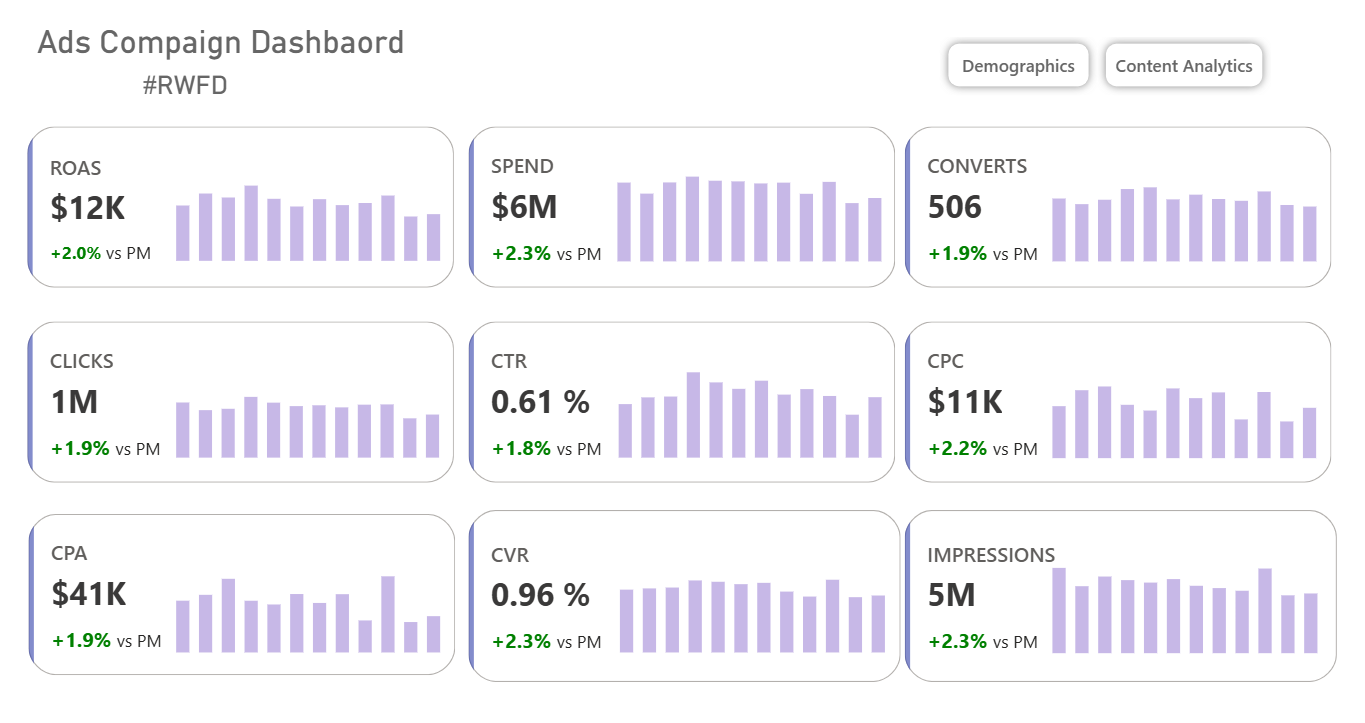

The dashboard page shown, as its layout file describes it:
{"tool":"powerbi","page":{"name":"KPI","canvas":[1280,720],"ordinal":0},"visuals":[{"type":"cardVisual","fields":{"Data":["Sum(Sheet1.Spend)"]},"box":[444,122,402,160],"z":0},{"type":"cardVisual","fields":{"Data":["Sum(Sheet1.Clicks)"]},"box":[34,304,402,160],"z":1000},{"type":"cardVisual","fields":{"Data":["Avg(Sheet1.Conversions)"]},"box":[850.1,122.5,402,160],"z":2000},{"type":"lineClusteredColumnComboChart","fields":{"Category":["Sheet1.Date.Variation.Date Hierarchy.Month"],"Y":["Sum(Sheet1.Spend)"]},"box":[578,155,256,104],"z":3000},{"type":"lineClusteredColumnComboChart","fields":{"Category":["Sheet1.Date.Variation.Date Hierarchy.Month"],"Y":["Sum(Sheet1.Conversions)"]},"box":[982,155,256,104],"z":4000},{"type":"lineClusteredColumnComboChart","fields":{"Category":["Sheet1.Date.Variation.Date Hierarchy.Month"],"Y":["Sum(Sheet1.Clicks)"]},"box":[167,337,255,104],"z":5000},{"type":"cardVisual","fields":{"Data":["Sum(Sheet1.ROAS)"]},"box":[34,122,402,160],"z":6000},{"type":"lineClusteredColumnComboChart","fields":{"Category":["Sheet1.Date.Variation.Date Hierarchy.Month"],"Y":["Sum(Sheet1.ROAS)"]},"box":[167.4,153,256,104.7],"z":7000},{"type":"cardVisual","fields":{"Data":["Sum(Sheet1.CPC)"]},"box":[850,304,402,160],"z":8000},{"type":"lineClusteredColumnComboChart","fields":{"Category":["Sheet1.Date.Variation.Date Hierarchy.Month"],"Y":["Sum(Sheet1.CPC)"]},"box":[982.2,337,255.8,104.5],"z":9000},{"type":"cardVisual","fields":{"Data":["Min(Sheet1.CTR)"]},"box":[444,304,402,160],"z":10000},{"type":"lineClusteredColumnComboChart","fields":{"Category":["Sheet1.Date.Variation.Date Hierarchy.Month"],"Y":["Sum(Sheet1.CTR)"]},"box":[578.8,337,255,104],"z":11000},{"type":"cardVisual","fields":{"Data":["Sum(Sheet1.CPA)"]},"box":[34.8,482.7,402,160],"z":12000},{"type":"lineClusteredColumnComboChart","fields":{"Category":["Sheet1.Date.Variation.Date Hierarchy.Month"],"Y":["Sum(Sheet1.CPA)"]},"box":[167,517,256,105],"z":13000},{"type":"cardVisual","fields":{"Data":["Min(Sheet1.Conversion_Rate)"]},"box":[444.3,483.9,402,160],"z":14000},{"type":"lineClusteredColumnComboChart","fields":{"Category":["Sheet1.Date.Variation.Date Hierarchy.Month"],"Y":["Sum(Sheet1.Conversion_Rate)"]},"box":[580,517,257,105],"z":15000},{"type":"cardVisual","fields":{"Data":["Sum(Sheet1.Impressions)"]},"box":[850.1,483.9,402.3,160],"z":16000},{"type":"lineClusteredColumnComboChart","fields":{"Category":["Sheet1.Date.Variation.Date Hierarchy.Month"],"Y":["Sum(Sheet1.Impressions)"]},"box":[982.2,517,257,105.7],"z":17000},{"type":"actionButton","box":[882.6,41.9,146.5,55.8],"z":18000},{"type":"actionButton","box":[1029.1,41.9,161.6,55.8],"z":19000},{"type":"card","fields":{"Values":["Sheet1.Page title"]},"box":[34.9,20,358.1,53.5],"z":20000},{"type":"card","fields":{"Values":["Sheet1.RWFD"]},"box":[126.7,67.4,108.1,39.5],"z":20001}]}

Visuals, with their boxes on the page's 1280x720 design canvas (x1, y1, x2, y2). These are canvas units, not pixel positions in the 1365x723 screenshot, which may show the page scaled, cropped or inside an application window:
cardVisual - Sum(Sheet1.Spend): [x1=444, y1=122, x2=846, y2=282]
cardVisual - Sum(Sheet1.Clicks): [x1=34, y1=304, x2=436, y2=464]
cardVisual - Avg(Sheet1.Conversions): [x1=850, y1=122, x2=1252, y2=282]
lineClusteredColumnComboChart - Sheet1.Date.Variation.Date Hierarchy.Month x Sum(Sheet1.Spend): [x1=578, y1=155, x2=834, y2=259]
lineClusteredColumnComboChart - Sheet1.Date.Variation.Date Hierarchy.Month x Sum(Sheet1.Conversions): [x1=982, y1=155, x2=1238, y2=259]
lineClusteredColumnComboChart - Sheet1.Date.Variation.Date Hierarchy.Month x Sum(Sheet1.Clicks): [x1=167, y1=337, x2=422, y2=441]
cardVisual - Sum(Sheet1.ROAS): [x1=34, y1=122, x2=436, y2=282]
lineClusteredColumnComboChart - Sheet1.Date.Variation.Date Hierarchy.Month x Sum(Sheet1.ROAS): [x1=167, y1=153, x2=423, y2=258]
cardVisual - Sum(Sheet1.CPC): [x1=850, y1=304, x2=1252, y2=464]
lineClusteredColumnComboChart - Sheet1.Date.Variation.Date Hierarchy.Month x Sum(Sheet1.CPC): [x1=982, y1=337, x2=1238, y2=442]
cardVisual - Min(Sheet1.CTR): [x1=444, y1=304, x2=846, y2=464]
lineClusteredColumnComboChart - Sheet1.Date.Variation.Date Hierarchy.Month x Sum(Sheet1.CTR): [x1=579, y1=337, x2=834, y2=441]
cardVisual - Sum(Sheet1.CPA): [x1=35, y1=483, x2=437, y2=643]
lineClusteredColumnComboChart - Sheet1.Date.Variation.Date Hierarchy.Month x Sum(Sheet1.CPA): [x1=167, y1=517, x2=423, y2=622]
cardVisual - Min(Sheet1.Conversion_Rate): [x1=444, y1=484, x2=846, y2=644]
lineClusteredColumnComboChart - Sheet1.Date.Variation.Date Hierarchy.Month x Sum(Sheet1.Conversion_Rate): [x1=580, y1=517, x2=837, y2=622]
cardVisual - Sum(Sheet1.Impressions): [x1=850, y1=484, x2=1252, y2=644]
lineClusteredColumnComboChart - Sheet1.Date.Variation.Date Hierarchy.Month x Sum(Sheet1.Impressions): [x1=982, y1=517, x2=1239, y2=623]
actionButton: [x1=883, y1=42, x2=1029, y2=98]
actionButton: [x1=1029, y1=42, x2=1191, y2=98]
card - Sheet1.Page title: [x1=35, y1=20, x2=393, y2=74]
card - Sheet1.RWFD: [x1=127, y1=67, x2=235, y2=107]
